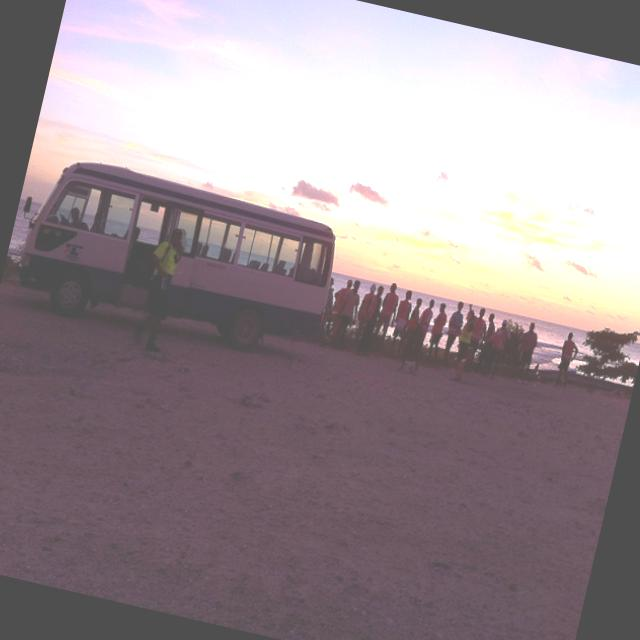Vehicle: (3, 147, 350, 360)
